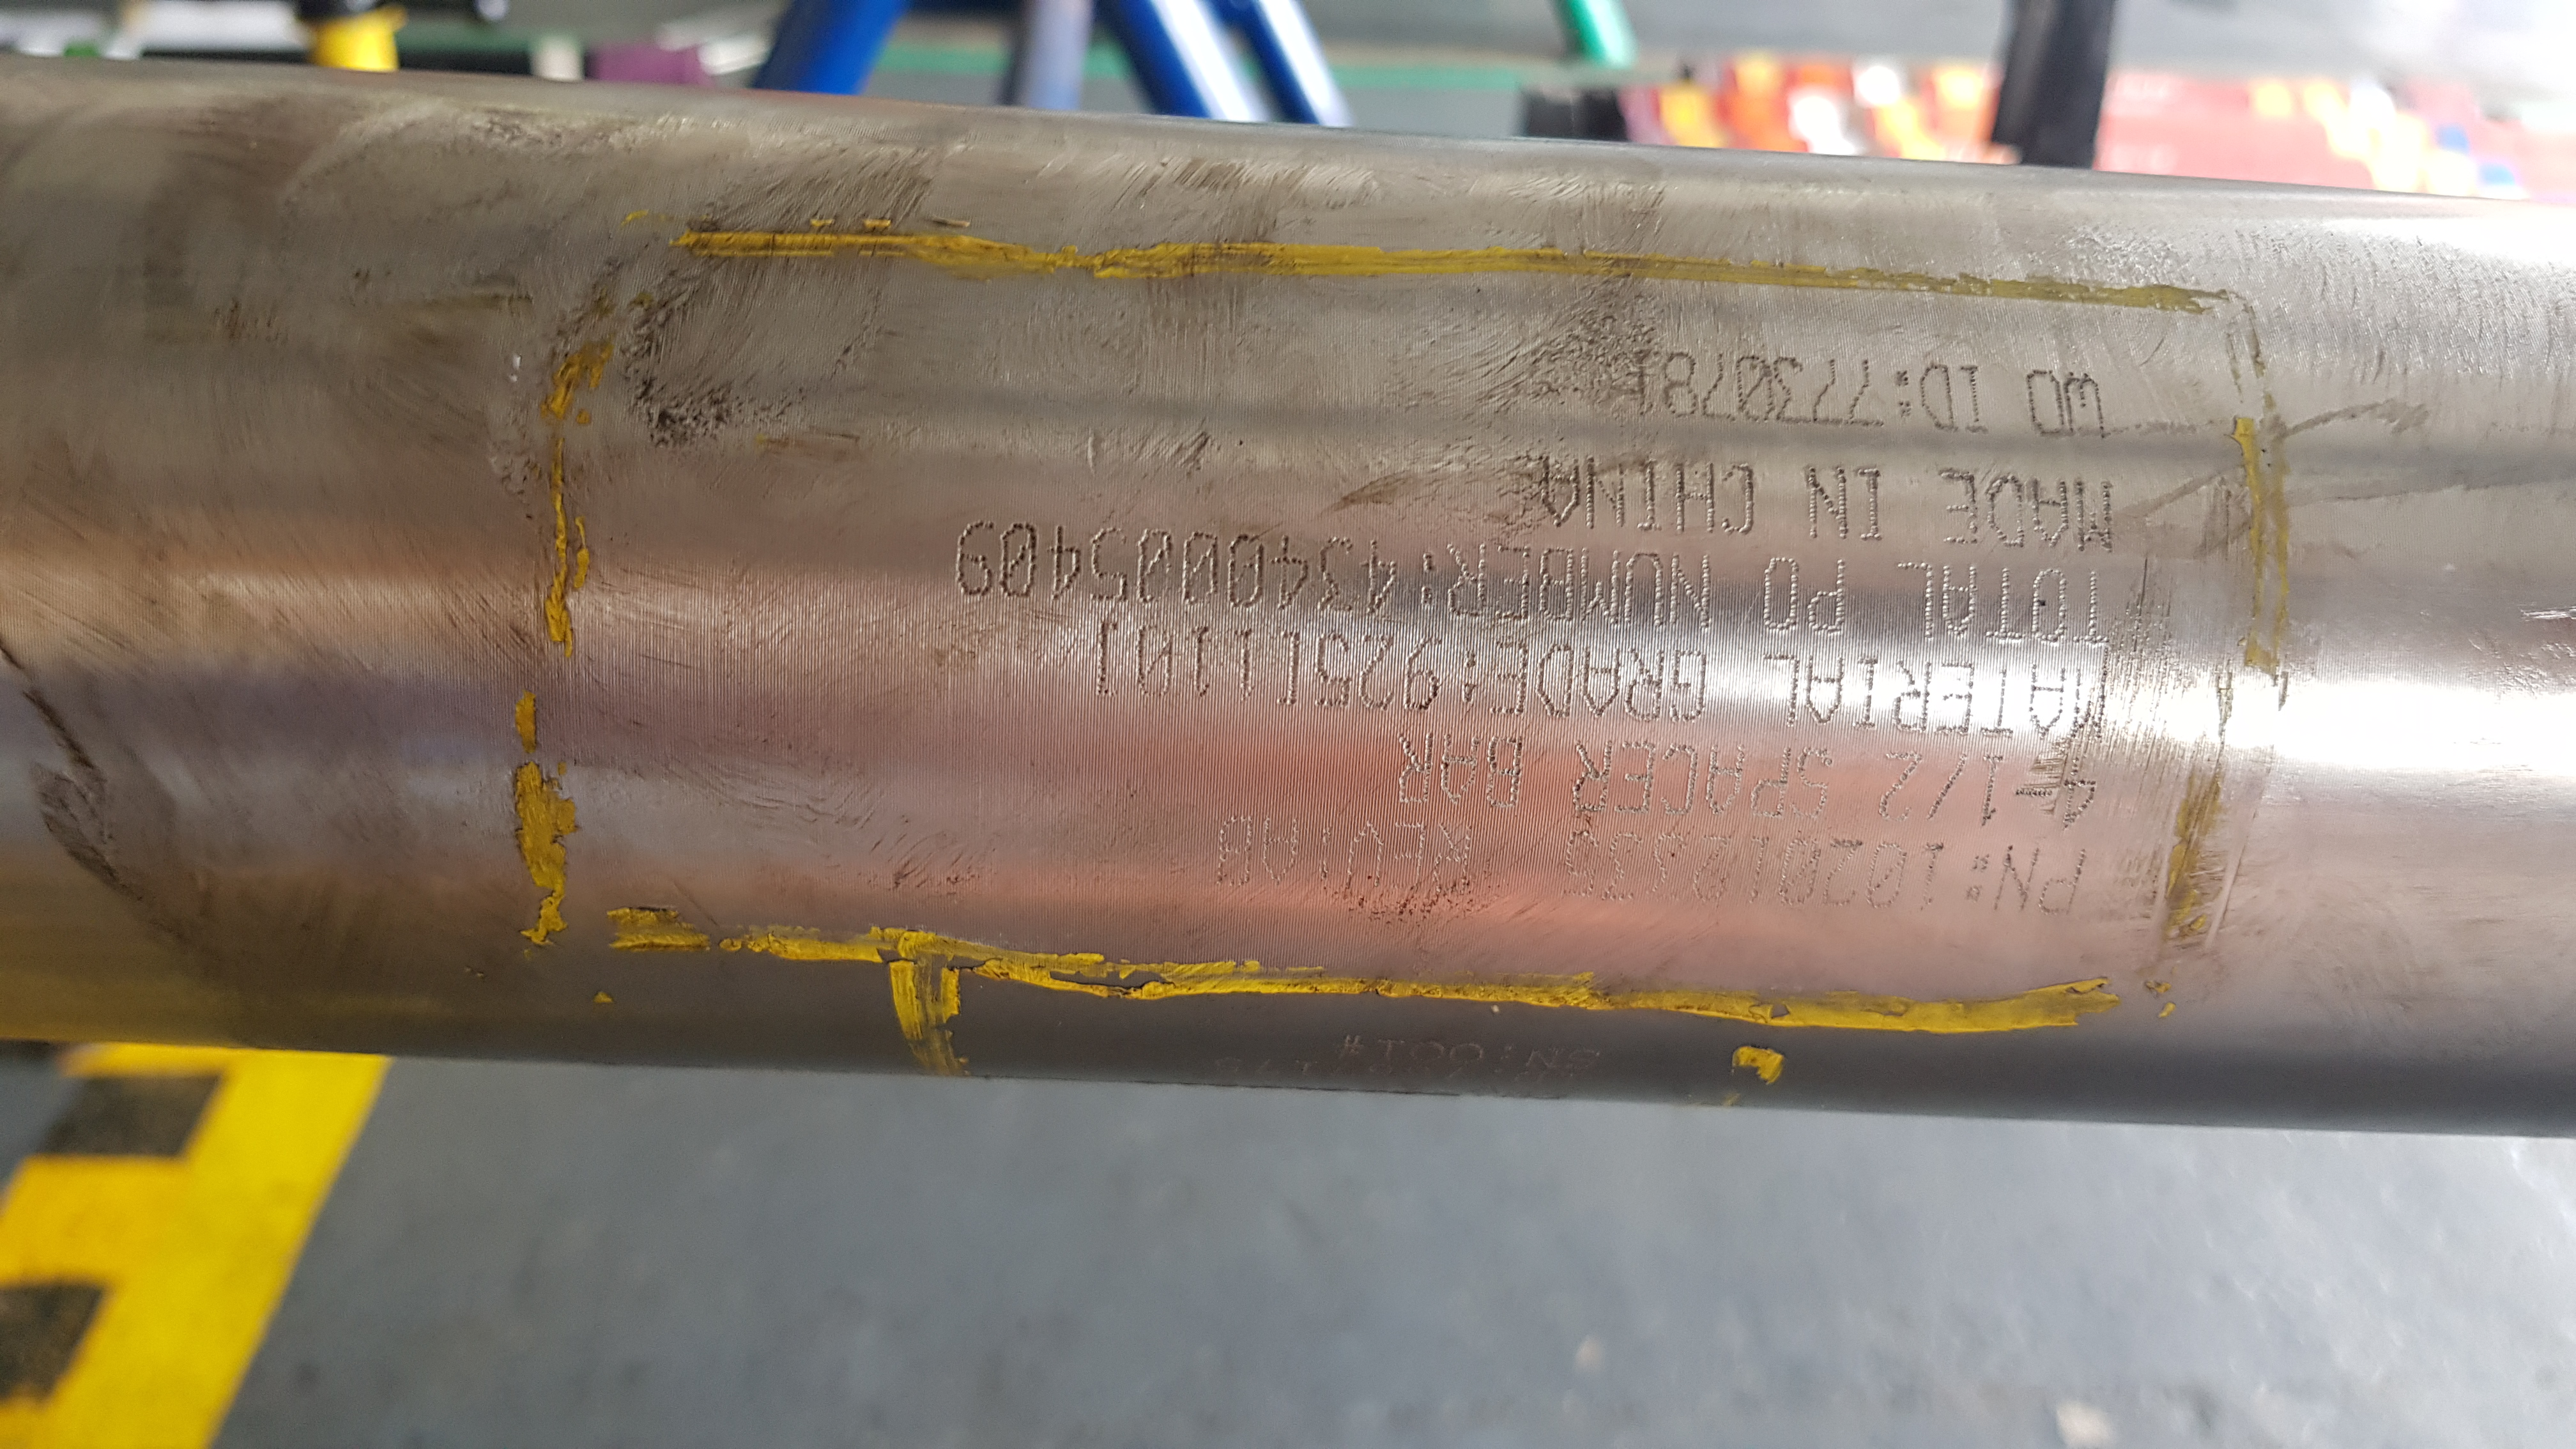character: (948, 517, 1007, 607), (2038, 846, 2111, 915), (1665, 547, 1718, 633), (1665, 462, 1730, 531), (1863, 833, 1916, 916), (1251, 809, 1304, 890), (1759, 644, 1808, 731), (1566, 736, 1617, 819), (1442, 538, 1493, 621), (1532, 449, 1583, 533), (1799, 464, 1858, 536), (1311, 625, 1361, 709), (1134, 617, 1184, 702), (1401, 632, 1453, 713), (1488, 635, 1537, 718), (1352, 630, 1401, 713), (2070, 472, 2121, 552), (1806, 559, 1858, 637), (996, 518, 1042, 605), (1992, 842, 2042, 922), (1914, 837, 1964, 916), (1387, 725, 1437, 805), (1937, 467, 1987, 547), (1932, 655, 1976, 743), (2024, 662, 2072, 743), (2028, 566, 2075, 648), (1311, 533, 1359, 614), (1224, 527, 1272, 609), (1980, 472, 2029, 550), (1132, 522, 1177, 609), (1757, 550, 1803, 633), (1343, 819, 1394, 893), (1438, 731, 1488, 807), (1691, 824, 1736, 909), (1983, 563, 2028, 648), (1576, 547, 1621, 632), (1495, 543, 1539, 628), (1046, 518, 1088, 607), (1778, 833, 1824, 915), (1385, 814, 1431, 895), (1624, 646, 1670, 727), (1801, 653, 1852, 725), (2026, 472, 2074, 550), (1583, 451, 1631, 529), (1431, 817, 1481, 892), (1730, 350, 1780, 425), (1532, 639, 1576, 722), (2072, 570, 2116, 653), (1180, 525, 1224, 609), (1794, 740, 1835, 830), (1486, 731, 1532, 810), (1214, 814, 1265, 885), (1621, 547, 1665, 628), (1854, 467, 1898, 548), (1937, 563, 1983, 640), (1086, 529, 1132, 607), (1748, 747, 1796, 821), (2063, 363, 2111, 437), (1270, 531, 1313, 614), (1270, 626, 1311, 713), (1874, 748, 1920, 824), (1578, 644, 1626, 717), (1845, 357, 1893, 430), (1670, 642, 1711, 725), (1603, 830, 1645, 909), (1824, 835, 1868, 911), (1893, 658, 1937, 734), (1895, 559, 1939, 635), (1918, 359, 1962, 435), (2022, 370, 2068, 442), (1088, 617, 1123, 711), (1562, 828, 1605, 906), (1660, 743, 1702, 821), (1927, 748, 1971, 823), (1808, 354, 1852, 428), (1359, 534, 1399, 614), (1645, 830, 1688, 906), (1720, 464, 1762, 540), (1619, 736, 1658, 817), (1537, 541, 1576, 623), (1700, 350, 1741, 428), (2059, 755, 2102, 830), (2072, 663, 2112, 740), (1982, 667, 2019, 750), (1851, 653, 1888, 736), (1706, 741, 1750, 810), (1660, 349, 1704, 418), (1976, 748, 2015, 826), (1773, 349, 1810, 430), (1959, 359, 1992, 437), (1187, 621, 1217, 708), (1230, 625, 1263, 701), (1741, 833, 1776, 904), (1638, 449, 1667, 536), (1626, 349, 1658, 423)
